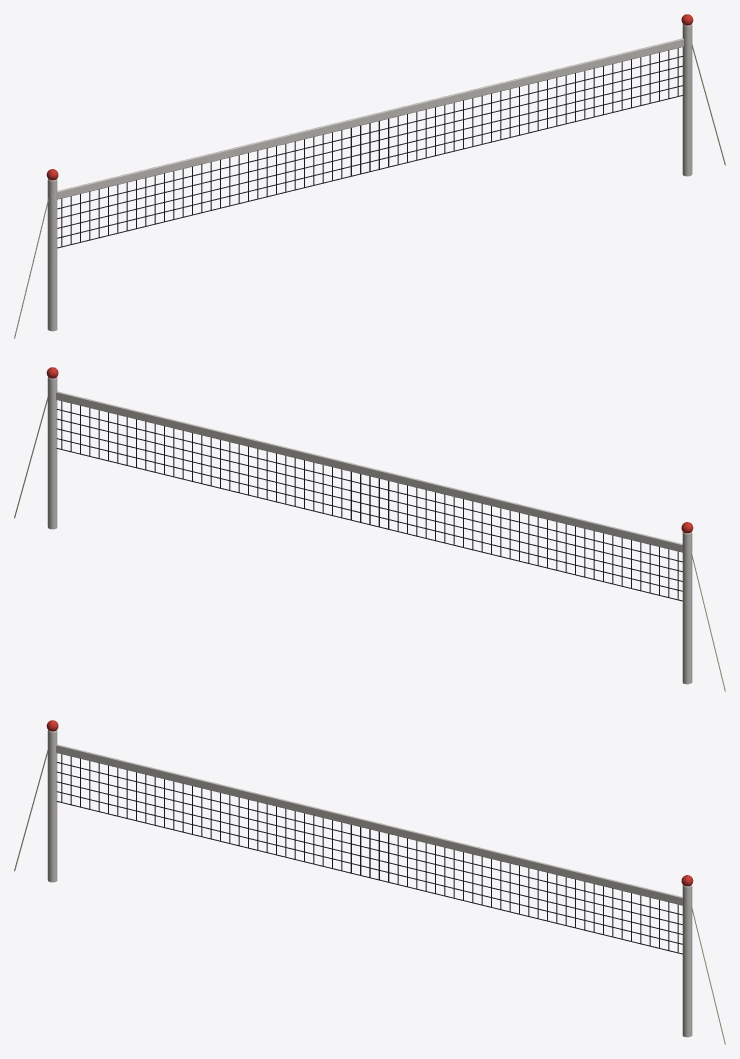
Rendered from volleyball.glb.
The picture shows the model from 3 angles, top to bottom: view 1: azimuth 30°, elevation 25°; view 2: azimuth 150°, elevation 25°; view 3: azimuth 330°, elevation 25°; orthographic projection.
Parts seen in each view (by area): view 1: volleyball_main; view 2: volleyball_main; view 3: volleyball_main.
Part boxes in pixels (x1,y1,x2,y2): volleyball_main: [14, 14, 725, 338]; volleyball_main: [14, 367, 725, 691]; volleyball_main: [14, 720, 725, 1044].
Bounding box in the file's own units: 7.63 × 1.64 × 0.11.
